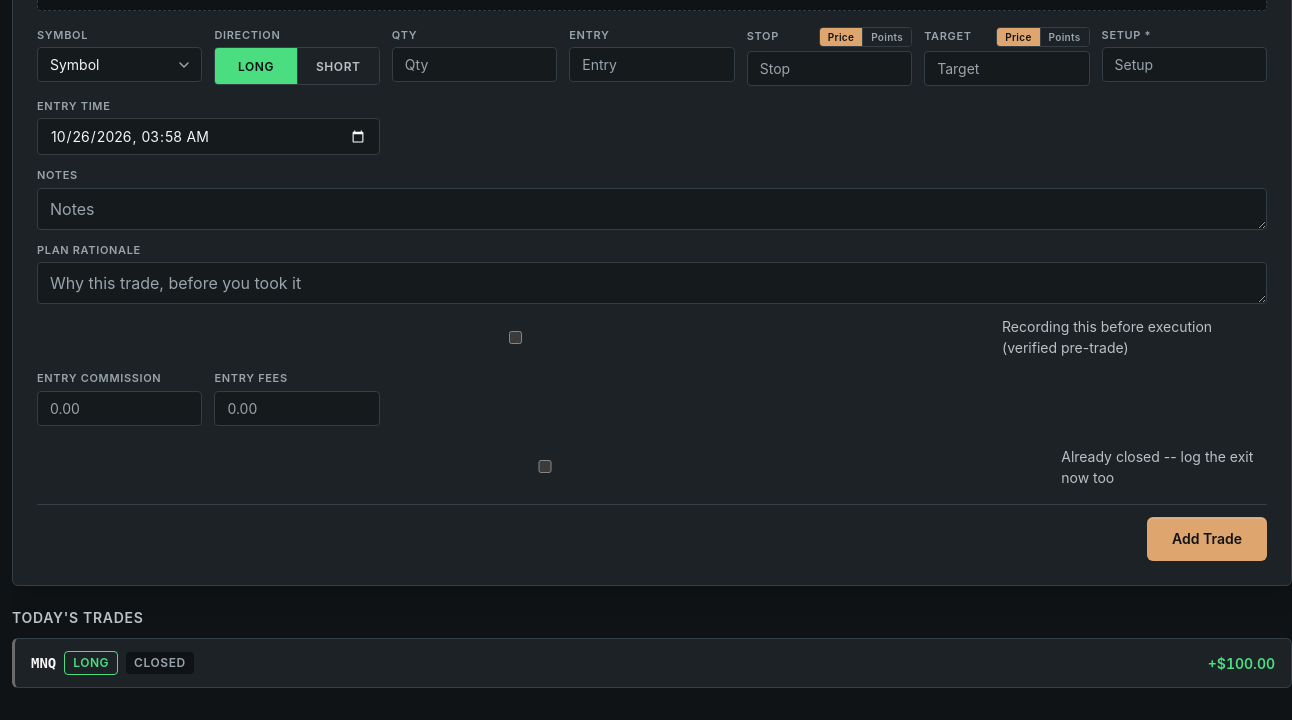
Test: TradesSection edit-trim commission/fees (issue #80/#84 code review finding) › pre-fills commission/fees from the existing exit when editing it
(page scrolled)
Click the element with class "trade-card__header" at (91, 663), box [31,651,1275,675]
(page scrolled)
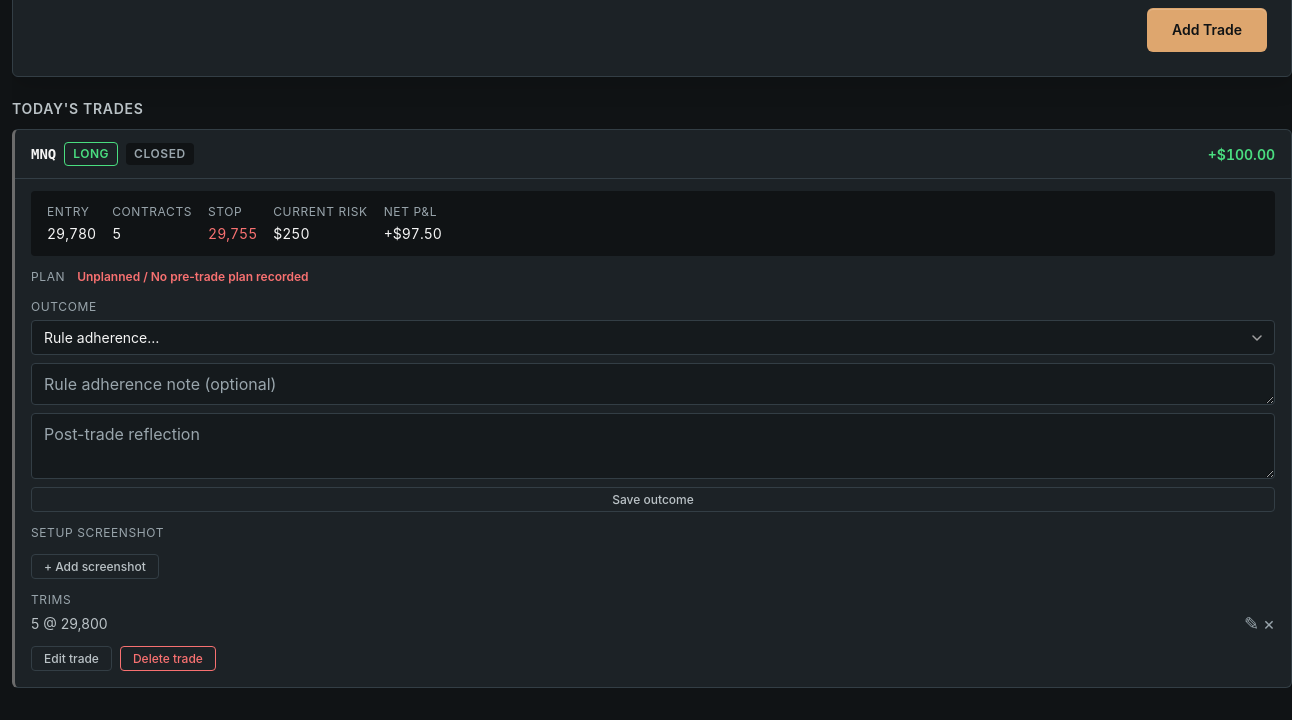
Click the button with class "edit-item-button" at (1252, 624), box [1244,615,1259,633]
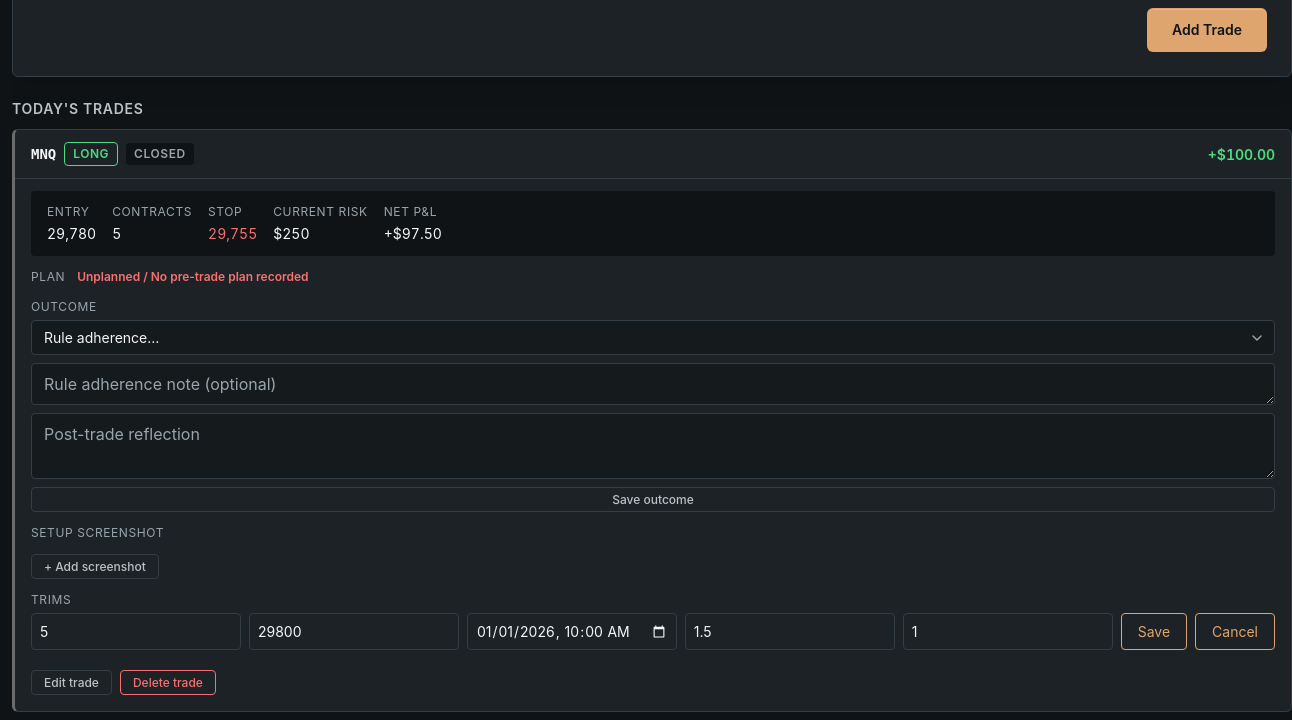
Expected: the 4th number field with placeholder "Fees" holds "1", [903,613,1113,650]
Expected: the 3rd number field with placeholder "Commission" holds "1.5", [685,613,895,650]
